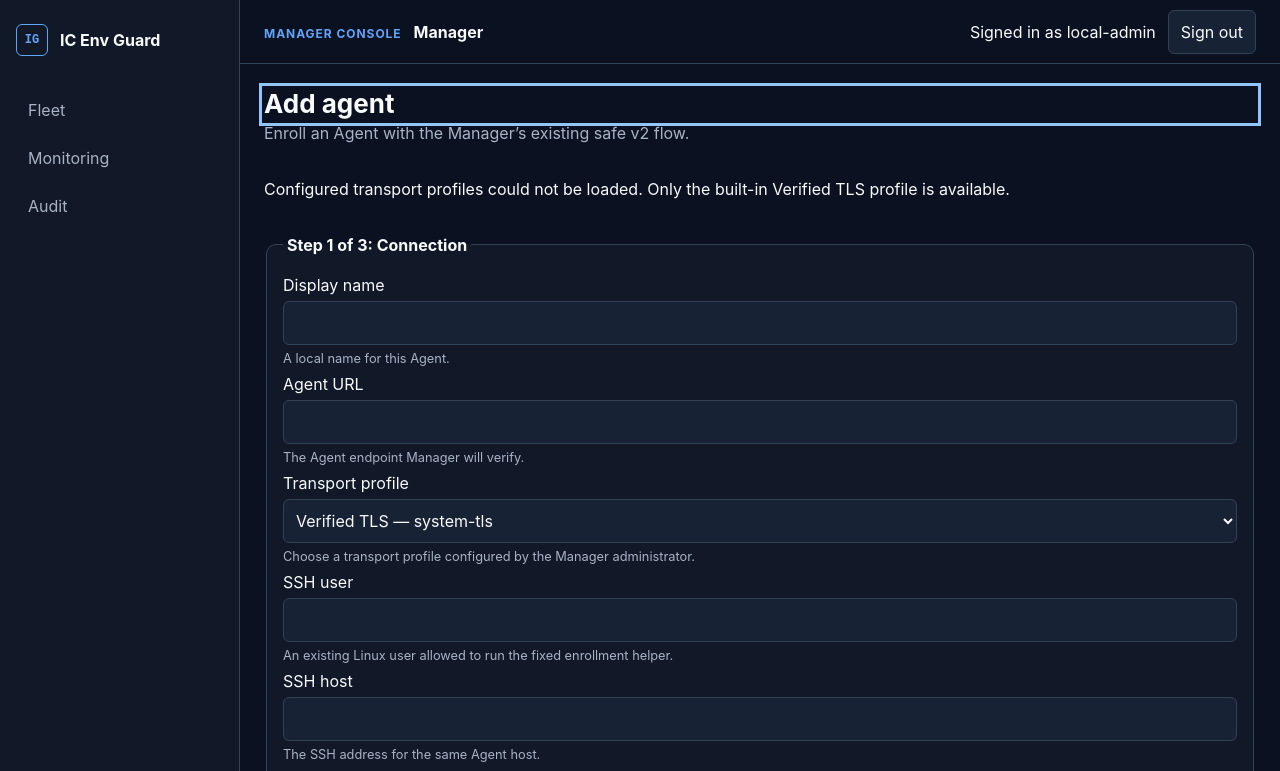
Fleet accessibility workflow › does not expose write-only enrollment response material in observable browser surfaces
Type "Alpha" into the field labelled "Display name" at (760, 322), box x1=283 y1=300 x2=1237 y2=344
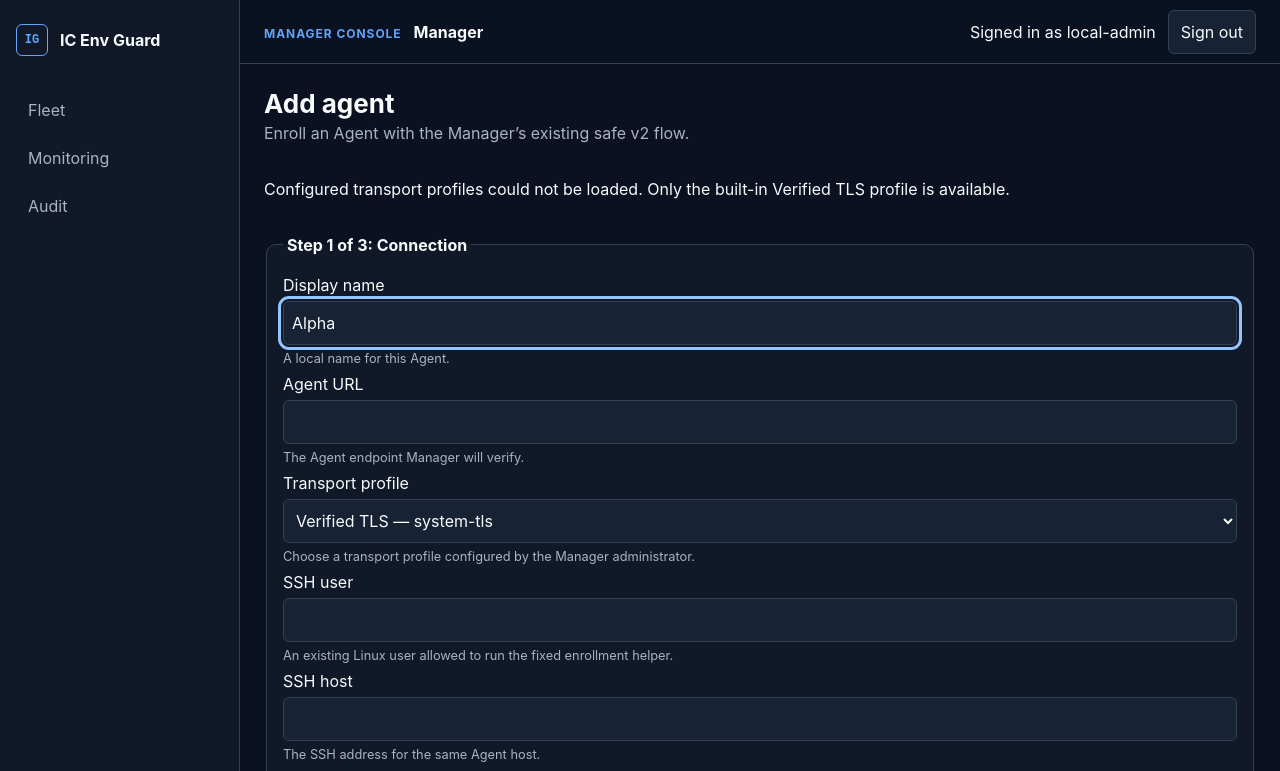
Type "https://10.0.0.4:8765" into the field labelled "Agent URL" at (760, 422), box x1=283 y1=400 x2=1237 y2=444
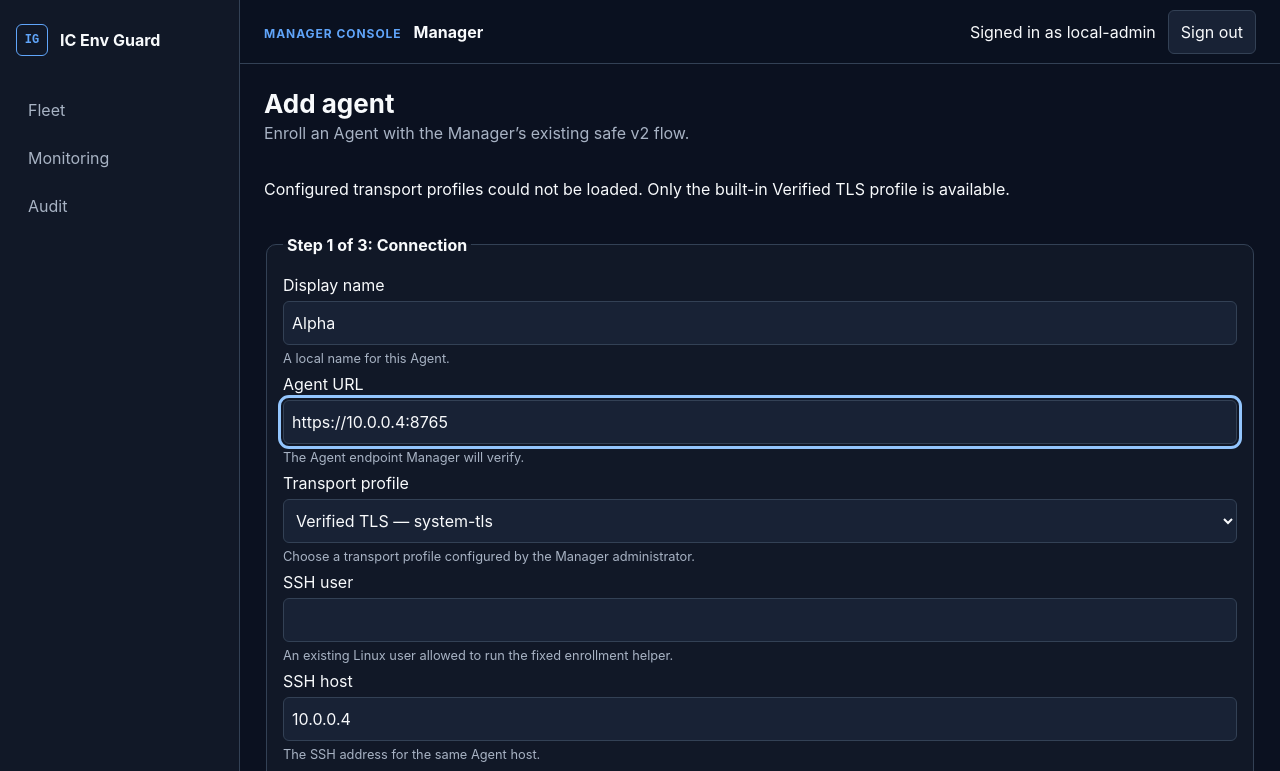
Type "edaops" into the field labelled "SSH user" at (760, 620), box x1=283 y1=598 x2=1237 y2=642
(page scrolled)
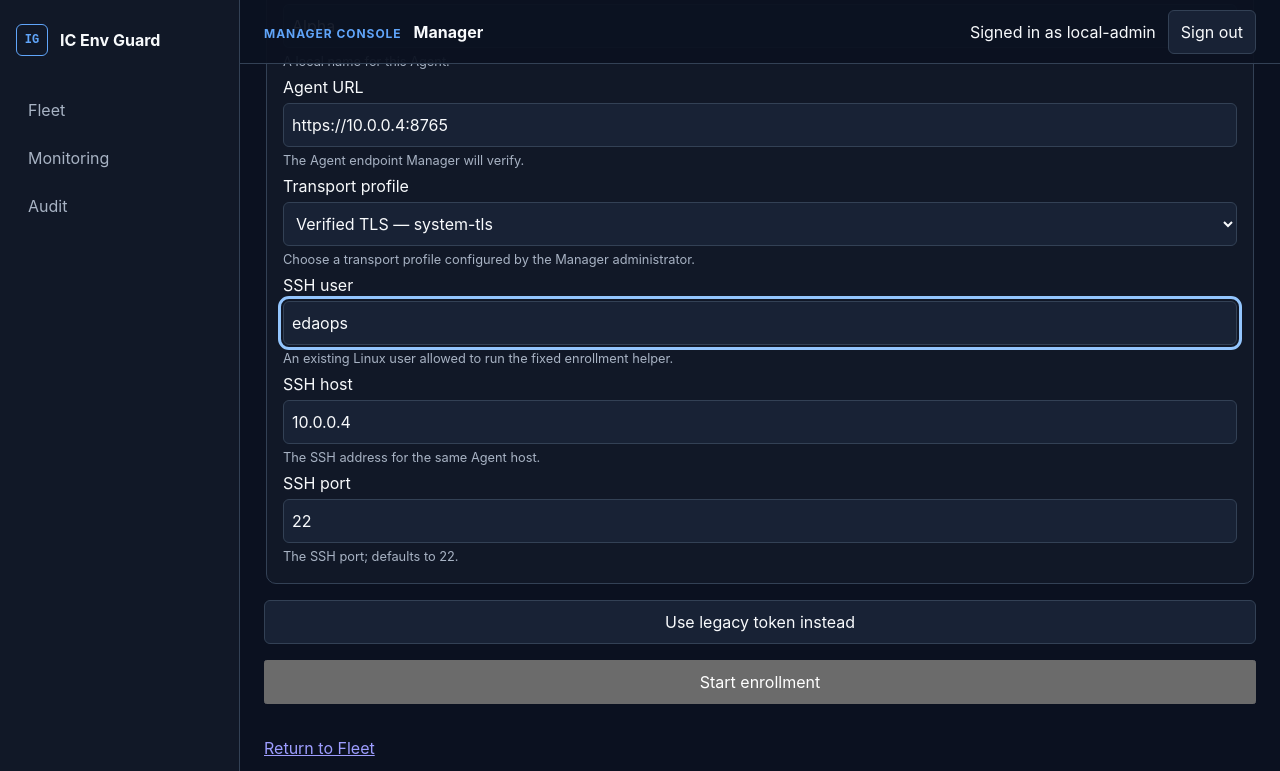
Expected: the field labelled "SSH host" holds "10.0.0.4", x1=283 y1=400 x2=1237 y2=444
Click the button "Start enrollment" at (760, 682), box x1=264 y1=660 x2=1256 y2=704
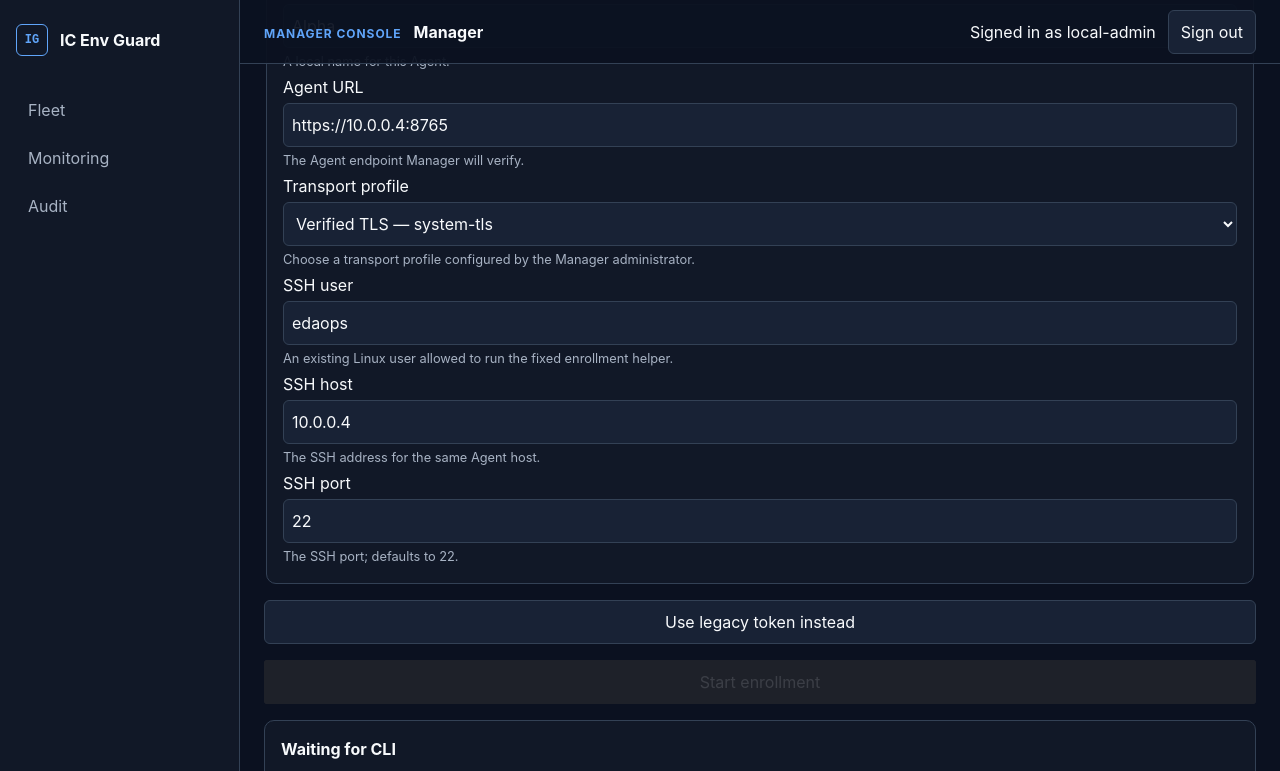
Expected: the heading "Waiting for CLI" is shown, x1=281 y1=739 x2=396 y2=759
